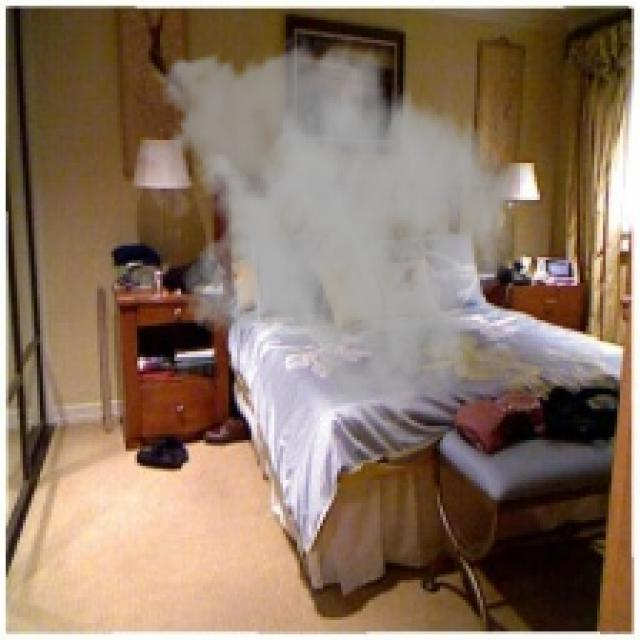Smoke: (145, 31, 518, 426)
